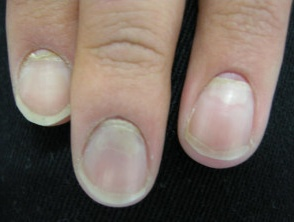SJS-TEN: (81, 105, 153, 168), (194, 66, 259, 131), (11, 37, 75, 81)
